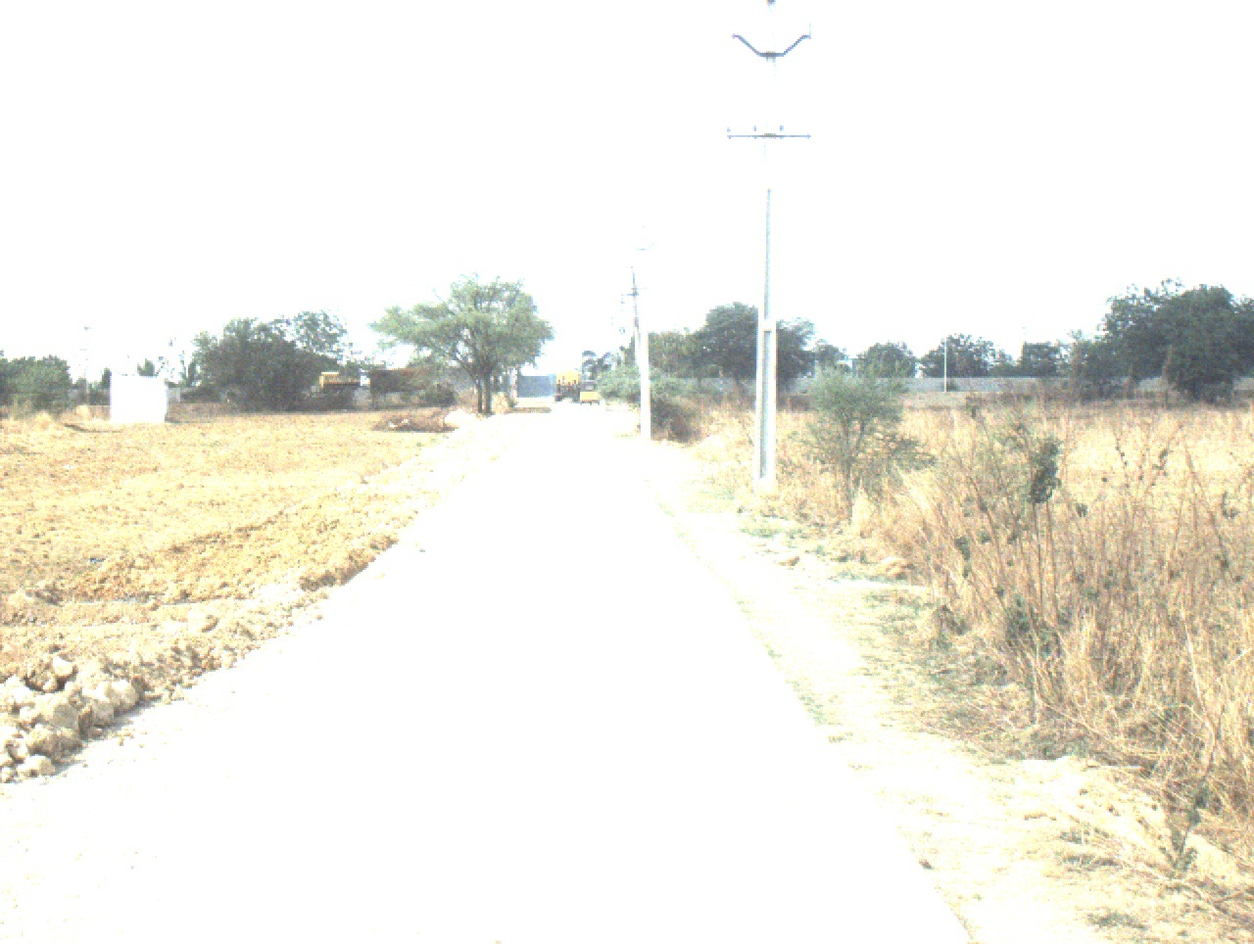autorickshaw: (580, 379, 600, 406)
rider: (571, 379, 580, 401), (560, 375, 568, 388)
vehicle fallback: (553, 368, 583, 402)
